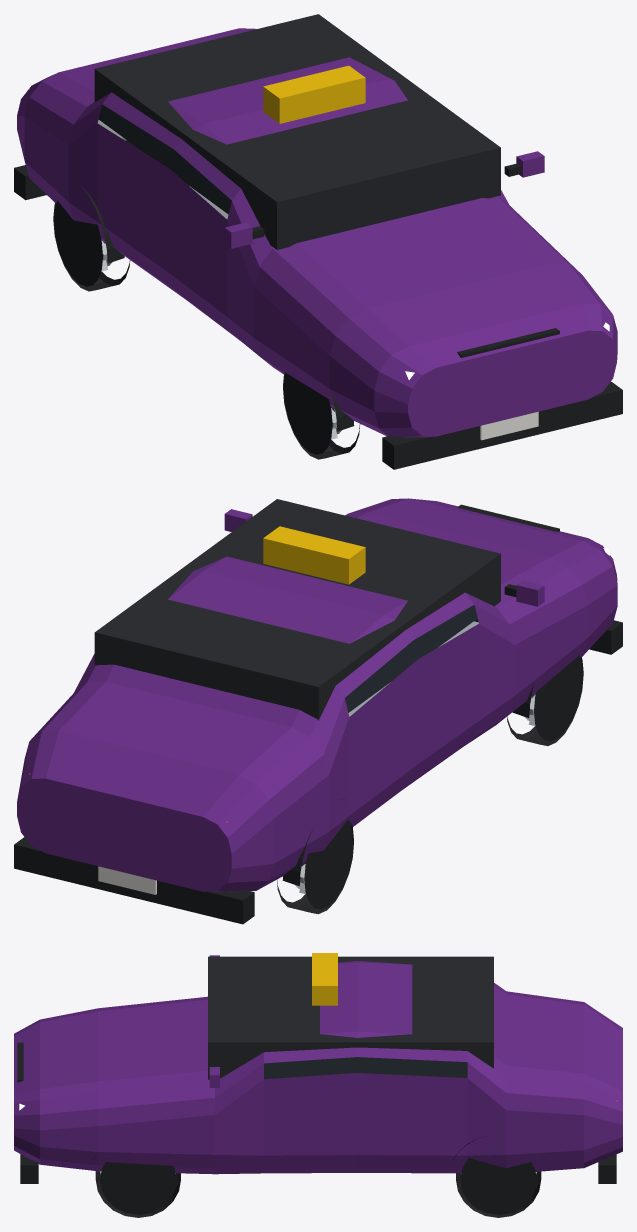
File: taxi.glb
3 views of the same model, one above another, from view 1: azimuth 30°, elevation 25°; view 2: azimuth 150°, elevation 25°; view 3: azimuth 270°, elevation 25° (orthographic). The views are drawn at different scales.
Parts seen in each view (by area): view 1: body, wheel_RL, wheel_FL; view 2: body, wheel_RL, wheel_FL; view 3: body, wheel_RR, wheel_FR.
Boxes of the visible parts, box(x1,y1,x2,y2) form: body: box(14, 14, 622, 469); wheel_RL: box(53, 200, 130, 291); wheel_FL: box(283, 372, 360, 459); body: box(14, 498, 622, 924); wheel_RL: box(277, 820, 353, 914); wheel_FL: box(507, 655, 583, 745); body: box(14, 953, 622, 1183); wheel_RR: box(456, 1158, 541, 1217); wheel_FR: box(95, 1162, 180, 1217).
Size of the model in its own units: 2.19 by 1.72 by 4.7.
